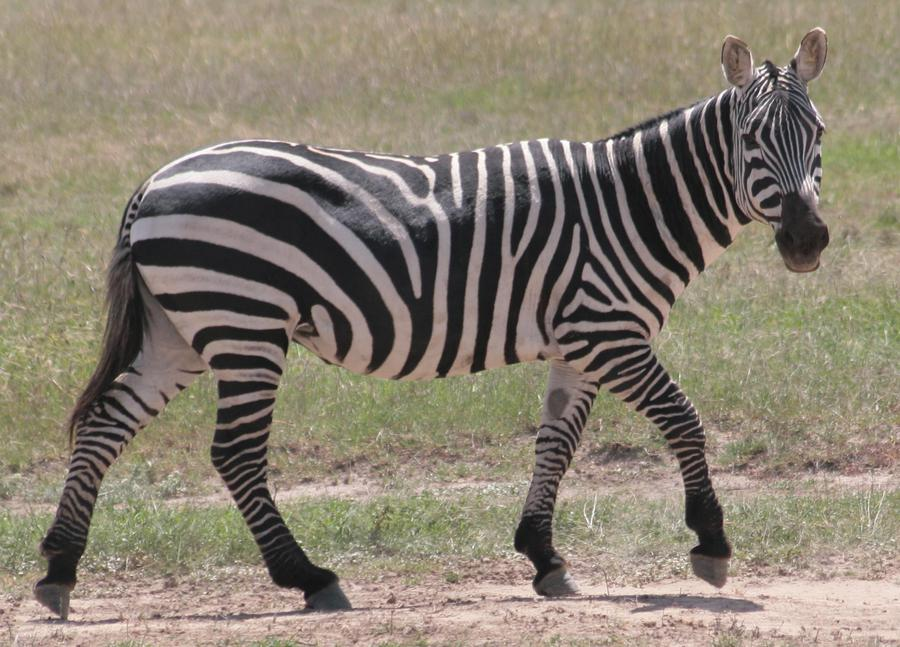zebra_plains: (157, 113, 700, 399)
